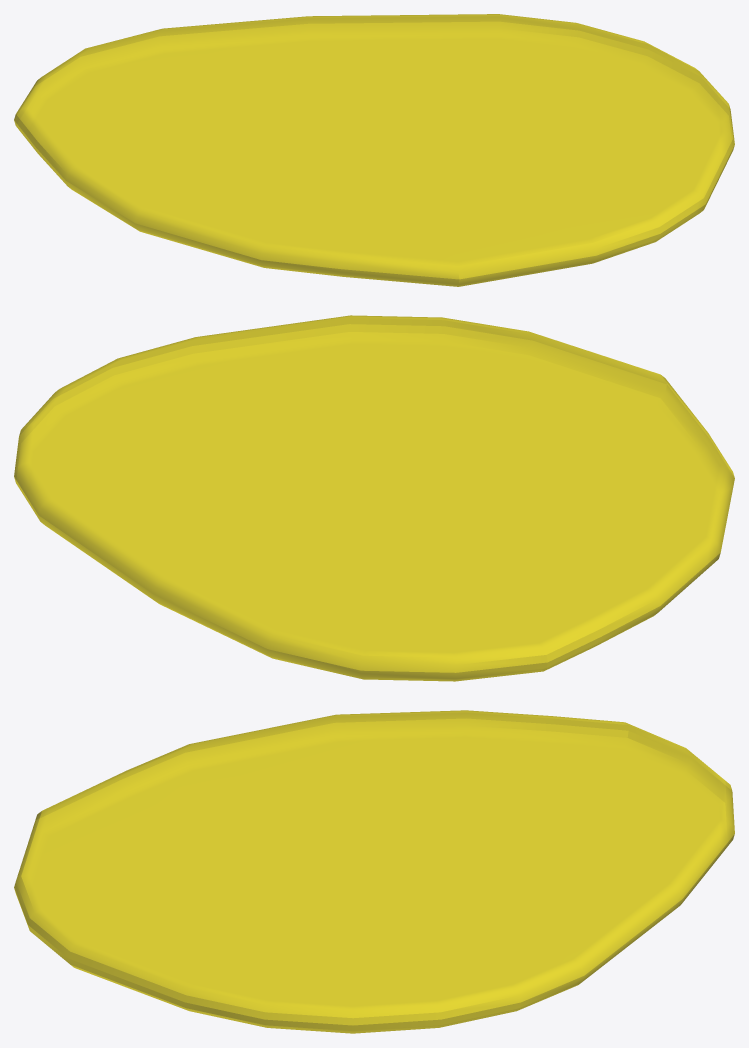
The model's file is oil_poured.fbx.
The picture shows the model from 3 angles, top to bottom: view 1: azimuth 30°, elevation 25°; view 2: azimuth 150°, elevation 25°; view 3: azimuth 270°, elevation 25°; orthographic projection. The views are drawn at different scales.
Parts seen in each view (by area): view 1: pCylinder1; view 2: pCylinder1; view 3: pCylinder1.
Boxes of the visible parts, x1,y1,x2,y2 form: pCylinder1: (14,14,734,286); pCylinder1: (14,315,734,681); pCylinder1: (14,710,734,1033).
Size of the model in its own units: 2.54 by 0.1 by 2.52.
